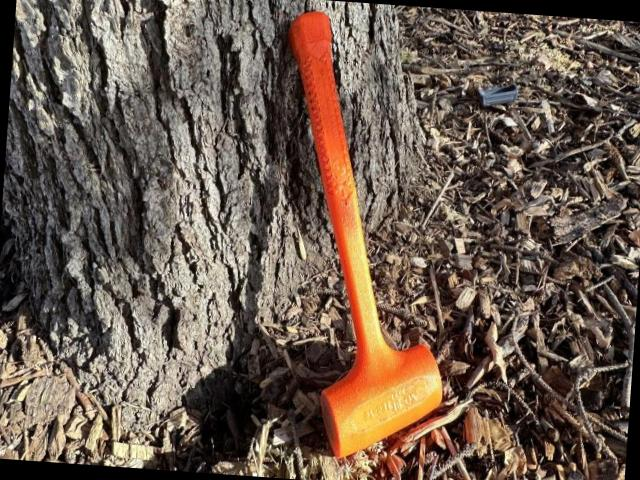hammer: (258, 10, 470, 463)
